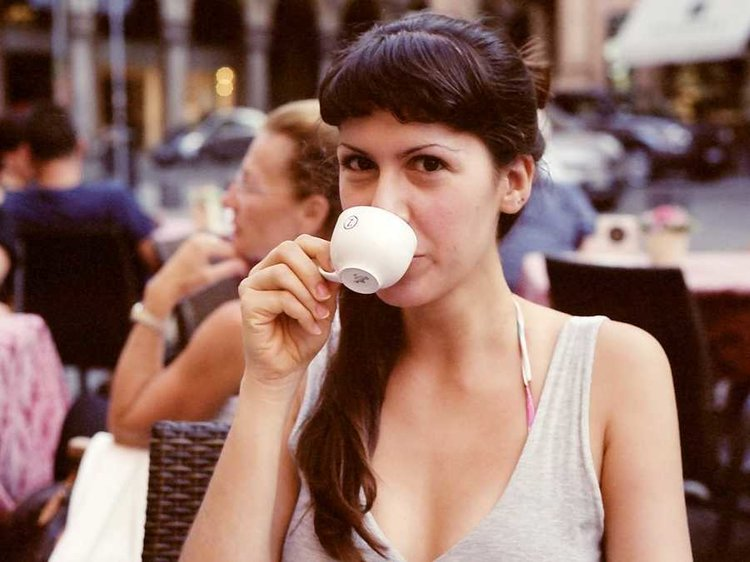drinking: (262, 20, 644, 415)
